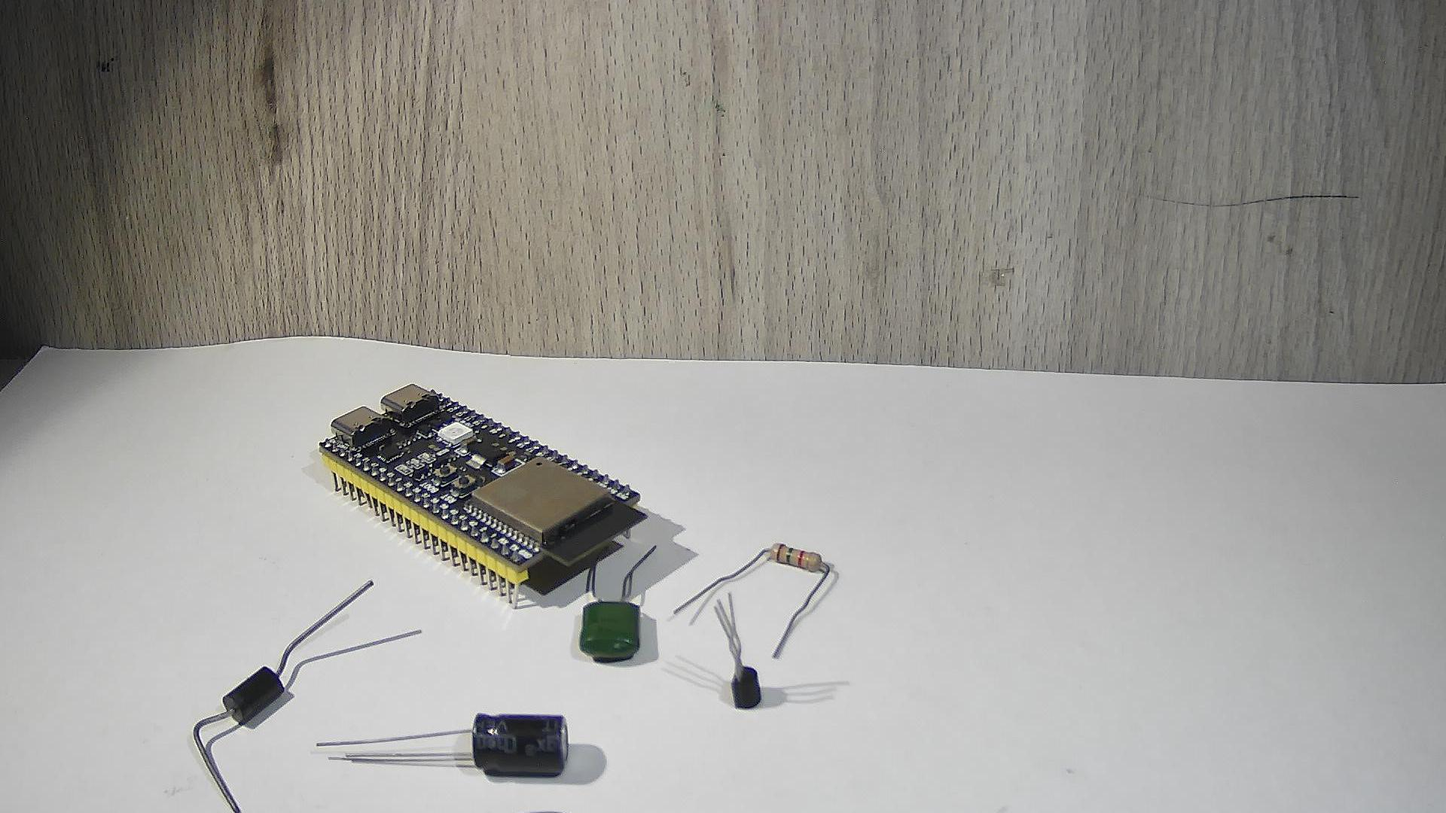Capacitor: (377, 683, 605, 798)
Diodo: (178, 600, 326, 760)
ESP32: (306, 384, 643, 585)
Resistencia: (723, 517, 886, 597)
Transistor: (700, 625, 776, 723)
capacitor ceramico: (565, 591, 660, 667)
